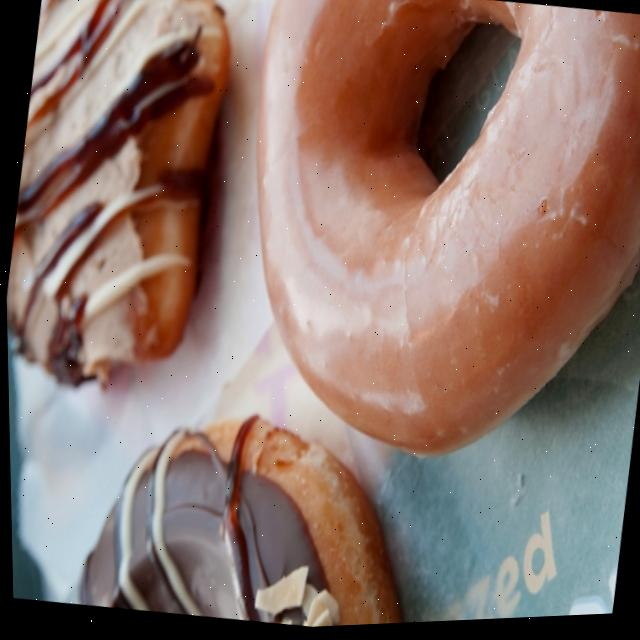炸货点心: (0, 0, 631, 640)
